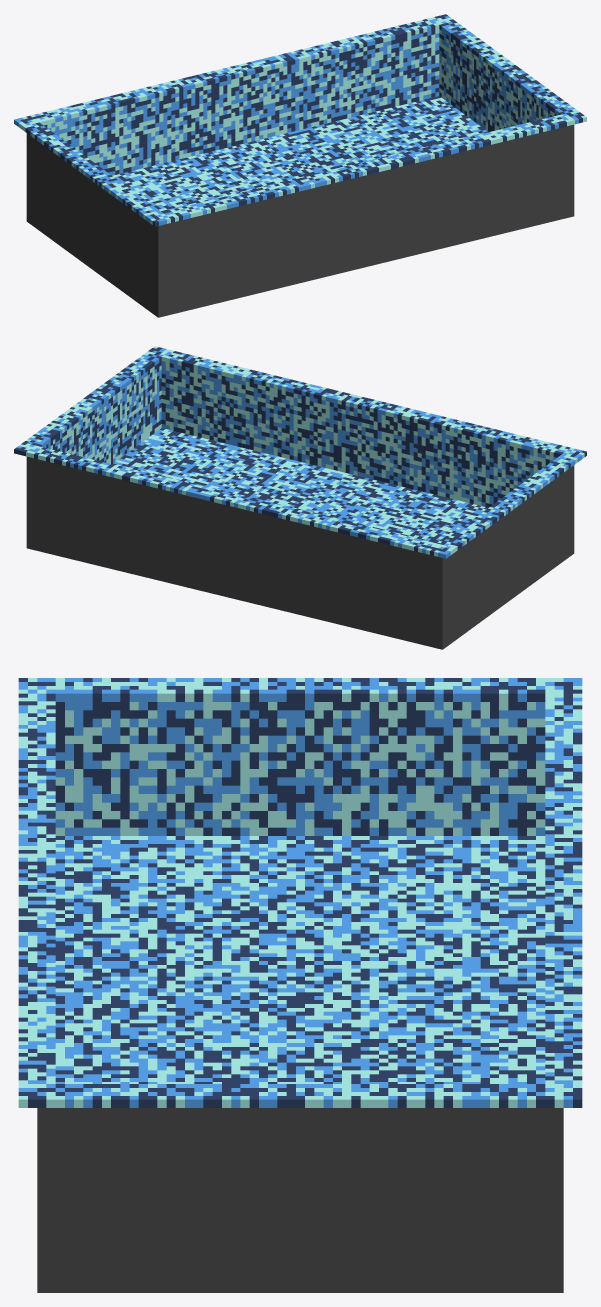
File: Swimming pool.obj
The picture shows the model from 3 angles, top to bottom: view 1: azimuth 30°, elevation 25°; view 2: azimuth 150°, elevation 25°; view 3: azimuth 270°, elevation 25°; orthographic projection. The views are drawn at different scales.
Bounding box in the file's own units: 10.8 × 2.4 × 6.1.
1 material, 1 textured.
